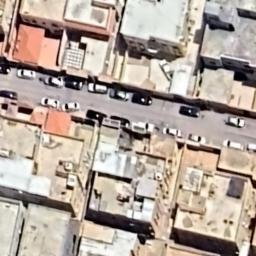SUV: (84, 80, 110, 96), (223, 114, 248, 130), (220, 137, 244, 152)
sedan: (85, 106, 111, 124), (178, 102, 202, 121), (106, 86, 132, 102), (134, 118, 160, 134), (108, 114, 132, 130), (42, 72, 65, 88), (58, 100, 84, 114), (37, 94, 61, 109), (161, 124, 183, 140), (131, 93, 156, 107), (62, 78, 86, 92), (0, 88, 23, 102), (14, 68, 36, 82), (186, 132, 207, 145), (0, 59, 13, 76)
